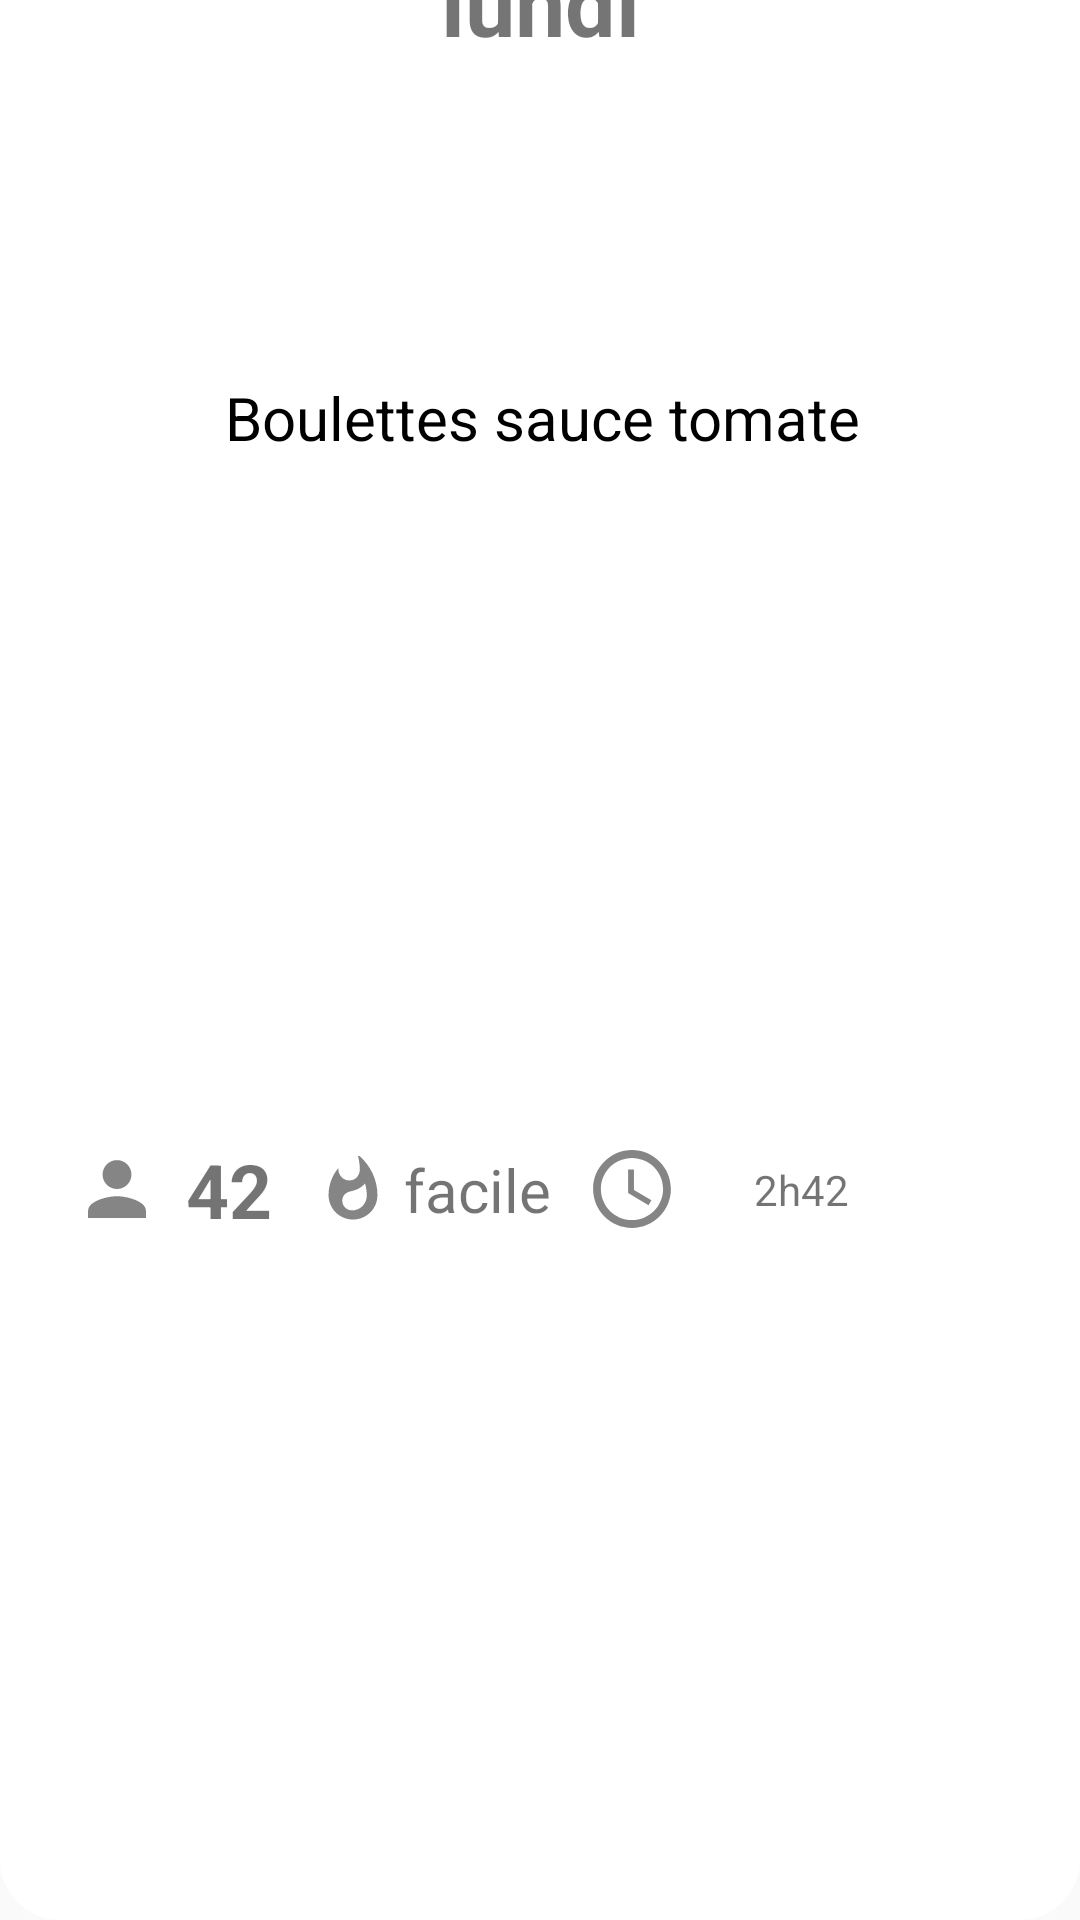

Named icons in this screenshot (1080×1920) and their centers, [x,y]:
feuuuuu: [353,1188]
Nombre de personnes: [117,1189]
time: [632,1189]
